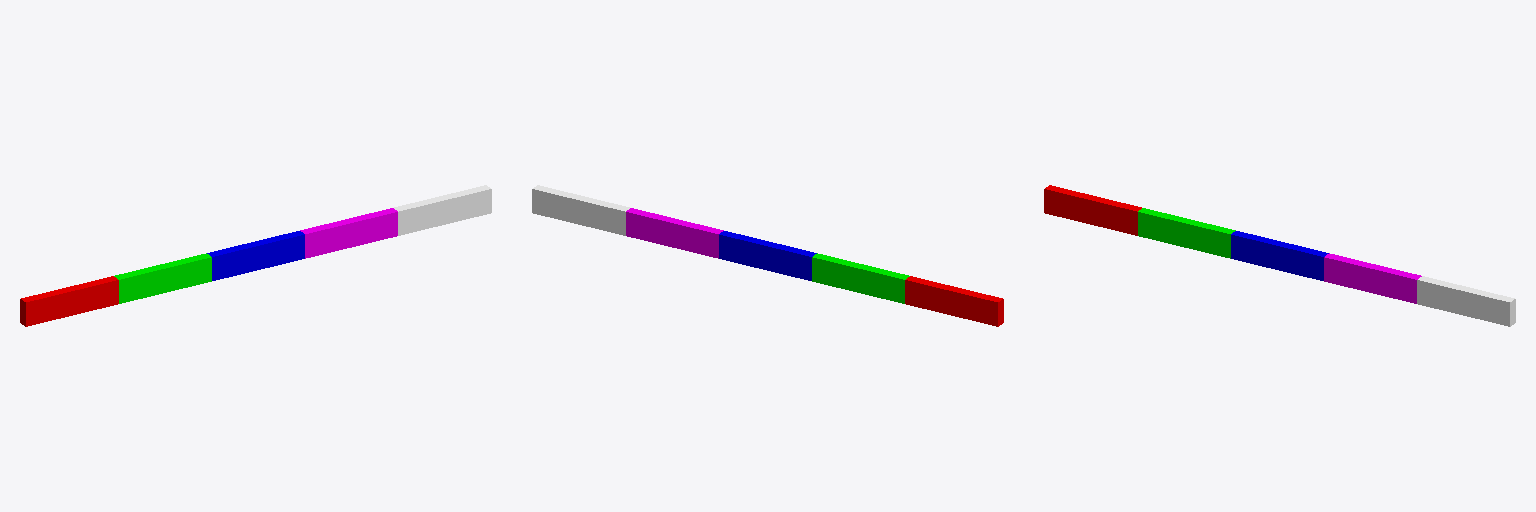
robot.urdf — flexible_arm:
<?xml version="1.0"?>
<robot name="flexible_arm">
  <!-- world -->
  <link name="world"/>

  <!-- Flexible arm modeled using virtual link method (finite segment method) -->
  <!-- Mass parameter of the (whole) link is taken from KUKA IIWA 14 link_1 -->
  <link name="link1">
    <visual>
      <origin rpy="0 0 0" xyz ="0.05 0 0"/>
      <geometry>
        <box size="0.1 0.025 0.01"/>
      </geometry>
      <material name="">
        <color rgba="1.0 0.0 0.0 1.0"/>
      </material>
    </visual>
    <inertial>
      <origin xyz="0.05 0 0" rpy="0 0 0"/>
      <mass value="0.8" />
      <inertia ixx="0" ixy="0" ixz="0" iyy="0" iyz="0" izz="0.002" />
    </inertial>
  </link>

  <joint name="base_to_link1" type="revolute">
    <parent link="world"/>
    <child link="link1"/>
    <axis xyz="0 0 1"/>
    <origin xyz="0 0 0" rpy="1.57079632679489661923 0 0"/>
    <limit effort="150.0" lower="-3.14159" upper="3.14159" velocity="3.14"/>
  </joint>

  <link name="link2">
    <visual>
      <origin rpy="0 0 0" xyz ="0.05 0 0"/>
      <geometry>
        <box size="0.1 0.025 0.01"/>
      </geometry>
      <material name="">
        <color rgba="0.0 1.0 0.0 1.0"/>
      </material>
    </visual>
    <inertial>
      <origin xyz="0.05 0 0" rpy="0 0 0"/>
      <mass value="0.8" />
      <inertia ixx="0" ixy="0" ixz="0" iyy="0" iyz="0" izz="0.002" />
    </inertial>
  </link>

  <joint name="link1_to_link2" type="fixed">
    <parent link="link1"/>
    <child link="link2"/>
    <axis xyz="0 0 1"/>
    <origin xyz="0.1 0 0" rpy="0 0 0"/>
    <limit effort="100.0" lower="-3.14159" upper="3.14159" velocity="3.14"/>
  </joint>

  <link name="link3">
    <visual>
      <origin rpy="0 0 0" xyz ="0.05 0 0"/>
      <geometry>
        <box size="0.1 0.025 0.01"/>
      </geometry>
      <material name="">
        <color rgba="0.0 0.0 1.0 1.0"/>
      </material>
    </visual>
    <inertial>
      <origin xyz="0.05 0 0" rpy="0 0 0"/>
      <mass value="0.8" />
      <inertia ixx="0" ixy="0" ixz="0" iyy="0" iyz="0" izz="0.002" />
    </inertial>
  </link>

  <joint name="link2_to_link3" type="fixed">
    <parent link="link2"/>
    <child link="link3"/>
    <axis xyz="0 0 1"/>
    <origin xyz="0.1 0 0" rpy="0 0 0"/>
    <limit effort="100.0" lower="-3.14159" upper="3.14159" velocity="3.14"/>
  </joint>

  <link name="link4">
    <visual>
      <origin rpy="0 0 0" xyz ="0.05 0 0"/>
      <geometry>
        <box size="0.1 0.025 0.01"/>
      </geometry>
      <material name="">
        <color rgba="1.0 0.0 1.0 1.0"/>
      </material>
    </visual>
    <inertial>
      <origin xyz="0.05 0 0" rpy="0 0 0"/>
      <mass value="0.8" />
      <inertia ixx="0" ixy="0" ixz="0" iyy="0" iyz="0" izz="0.002" />
    </inertial>
  </link>

  <joint name="link3_to_link4" type="fixed">
    <parent link="link3"/>
    <child link="link4"/>
    <axis xyz="0 0 1"/>
    <origin xyz="0.1 0 0" rpy="0 0 0"/>
    <limit effort="100.0" lower="-3.14159" upper="3.14159" velocity="3.14"/>
  </joint>

  <link name="link5">
    <visual>
      <origin rpy="0 0 0" xyz ="0.05 0 0"/>
      <geometry>
        <box size="0.1 0.025 0.01"/>
      </geometry>
      <material name="">
        <color rgba="1.0 1.0 1.0 0.0"/>
      </material>
    </visual>
    <inertial>
      <origin xyz="0.05 0 0" rpy="0 0 0"/>
      <mass value="0.8" />
      <inertia ixx="0" ixy="0" ixz="0" iyy="0" iyz="0" izz="0.002" />
    </inertial>
  </link>

  <joint name="link4_to_link5" type="fixed">
    <parent link="link4"/>
    <child link="link5"/>
    <axis xyz="0 0 1"/>
    <origin xyz="0.1 0 0" rpy="0 0 0"/>
    <limit effort="100.0" lower="-3.14159" upper="3.14159" velocity="3.14"/>
  </joint>

  <!-- <link name="load">
    <visual>
      <geometry>
        <box size="0.025 0.04 0.01"/>
      </geometry>
      <origin rpy="0 0 0" xyz ="0.0125 0 0"/>
    </visual>
    <inertial>
      <origin xyz="0.0125 0 0" rpy="0 0 0"/>
      <mass value="0" />
      <inertia ixx="0" ixy="0" ixz="0" iyy="0" iyz="0" izz="0" />
    </inertial>
  </link>

  <joint name="link5_to_load" type="fixed">
    <parent link="link5"/>
    <child link="load"/>
    <axis xyz="0 0 1"/>
    <origin xyz="0.1 0 0" rpy="0 0 0"/>
  </joint> -->

</robot>

--- Render facts (derived) ---
The picture shows the robot from 3 angles, left to right: view 1: azimuth 30°, elevation 25°; view 2: azimuth 150°, elevation 25°; view 3: azimuth 330°, elevation 25°; orthographic projection.
Robot: flexible_arm — 6 links, 5 joints (1 revolute, 4 fixed); root link world; default pose: all joints at 0.
Visible links, largest first — view 1: link1, link5, link2, link4, link3; view 2: link1, link5, link2, link4, link3; view 3: link5, link1, link4, link2, link3.
Link boxes in pixels (x1,y1,x2,y2): link1: (20,276,118,326); link5: (394,185,491,235); link2: (114,253,211,303); link4: (300,208,397,258); link3: (207,231,304,280); link1: (905,276,1003,326); link5: (532,185,629,235); link2: (812,253,909,303); link4: (626,208,723,258); link3: (719,231,816,280); link5: (1417,276,1515,326); link1: (1044,185,1141,235); link4: (1324,253,1421,303); link2: (1138,208,1235,258); link3: (1231,231,1328,280).
Bounding box of the posed robot: 0.5 × 0.01 × 0.025 m (x, y, z).
Geometry: primitives only (box / cylinder / sphere), no mesh files.